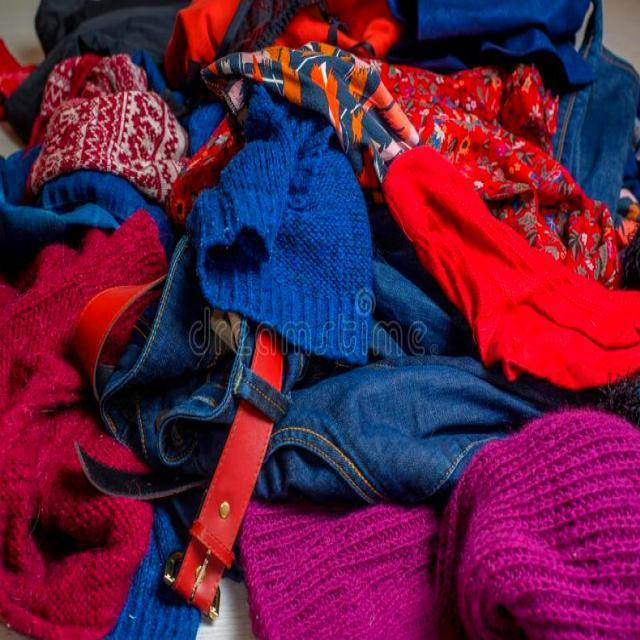clothes: (98, 72, 627, 396)
